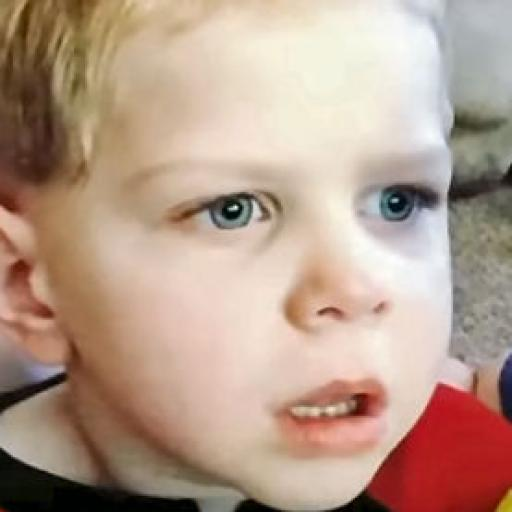Autism: (7, 6, 512, 492)
